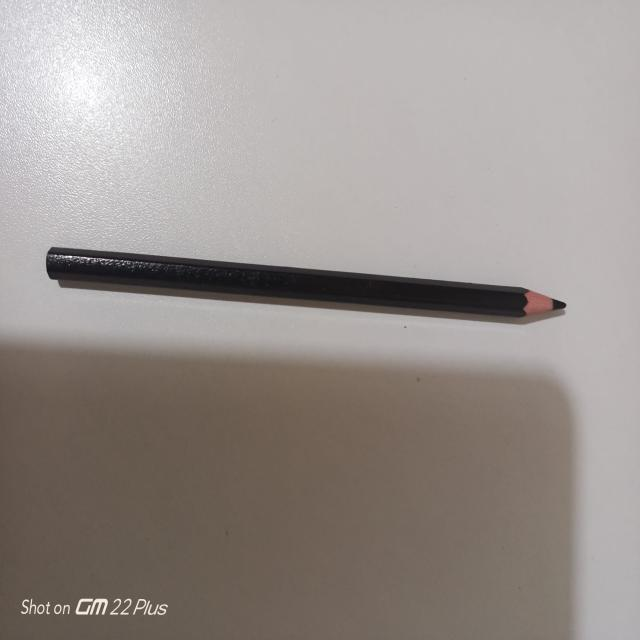pencil: (43, 238, 571, 334)
